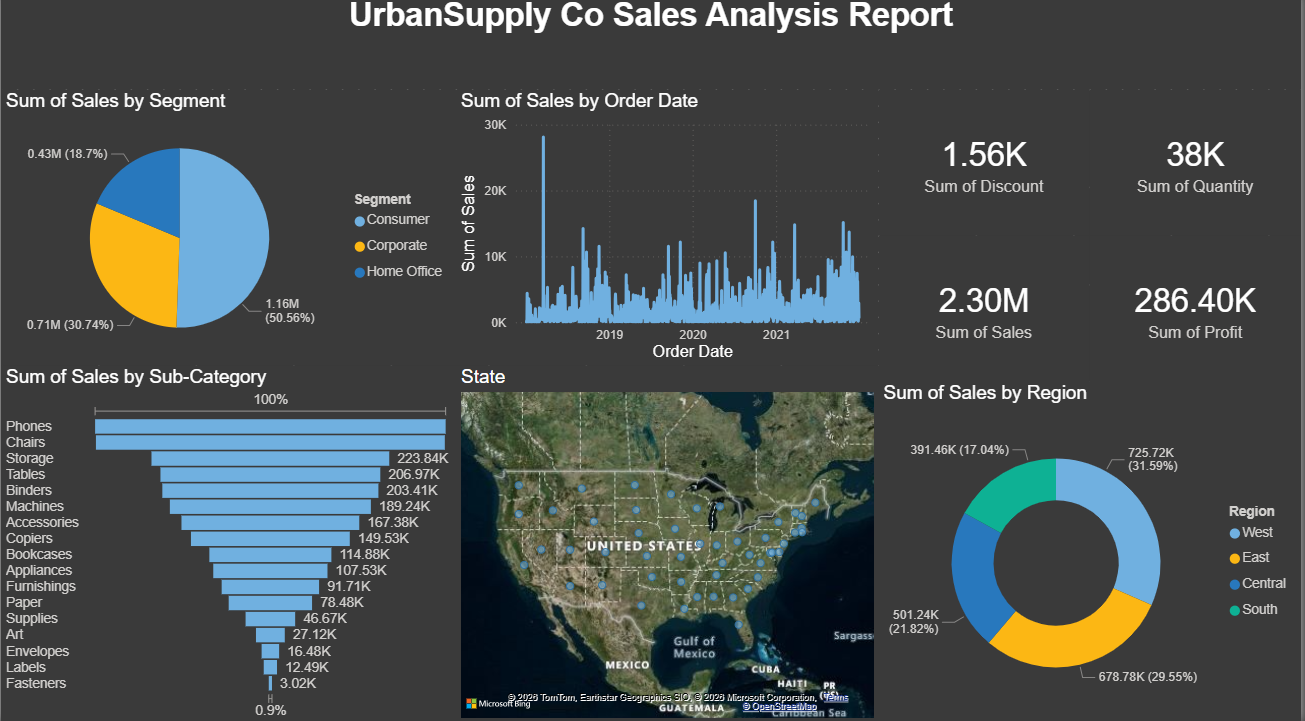

This screenshot's page, from the dashboard's own definition file:
{"tool":"powerbi","page":{"name":"Page 1","canvas":[1280,720],"ordinal":0},"visuals":[{"type":"donutChart","fields":{"Category":["Orders.Region"],"Y":["Sum(Orders.Sales)"]},"box":[864,384,416,336],"z":0},{"type":"funnel","fields":{"Category":["Orders.Sub-Category"],"Y":["Sum(Orders.Sales)"]},"box":[0,368,448,352],"z":1000},{"type":"map","fields":{"Category":["Orders.State"]},"box":[448,368,416,352],"z":2000},{"type":"pieChart","fields":{"Category":["Orders.Segment"],"Y":["Sum(Orders.Sales)"]},"box":[0,96,448,272],"z":3000},{"type":"lineChart","fields":{"Category":["Orders.Order Date"],"Y":["Sum(Orders.Sales)"]},"box":[448,96,416,272],"z":4000},{"type":"card","fields":{"Values":["Sum(Orders.Sales)"]},"box":[864,240,208,144],"z":5000},{"type":"card","fields":{"Values":["Sum(Orders.Profit)"]},"box":[1072,240,208,144],"z":6000},{"type":"card","fields":{"Values":["Sum(Orders.Discount)"]},"box":[864,96,208,144],"z":7000},{"type":"card","fields":{"Values":["Sum(Orders.Quantity)"]},"box":[1072,96,208,144],"z":8000},{"type":"textbox","box":[0,0,1280,96],"z":9000}]}

Visuals, with their boxes in screenshot pixels (x1, y1, x2, y2), scaled from the page's 1280x720 canvas onto the 1305x721 screenshot:
donutChart - Orders.Region x Sum(Orders.Sales): rect(881, 385, 1304, 720)
funnel - Orders.Sub-Category x Sum(Orders.Sales): rect(0, 369, 457, 720)
map - Orders.State: rect(457, 369, 881, 720)
pieChart - Orders.Segment x Sum(Orders.Sales): rect(0, 96, 457, 369)
lineChart - Orders.Order Date x Sum(Orders.Sales): rect(457, 96, 881, 369)
card - Sum(Orders.Sales): rect(881, 240, 1093, 385)
card - Sum(Orders.Profit): rect(1093, 240, 1304, 385)
card - Sum(Orders.Discount): rect(881, 96, 1093, 240)
card - Sum(Orders.Quantity): rect(1093, 96, 1304, 240)
textbox: rect(0, 0, 1304, 96)
